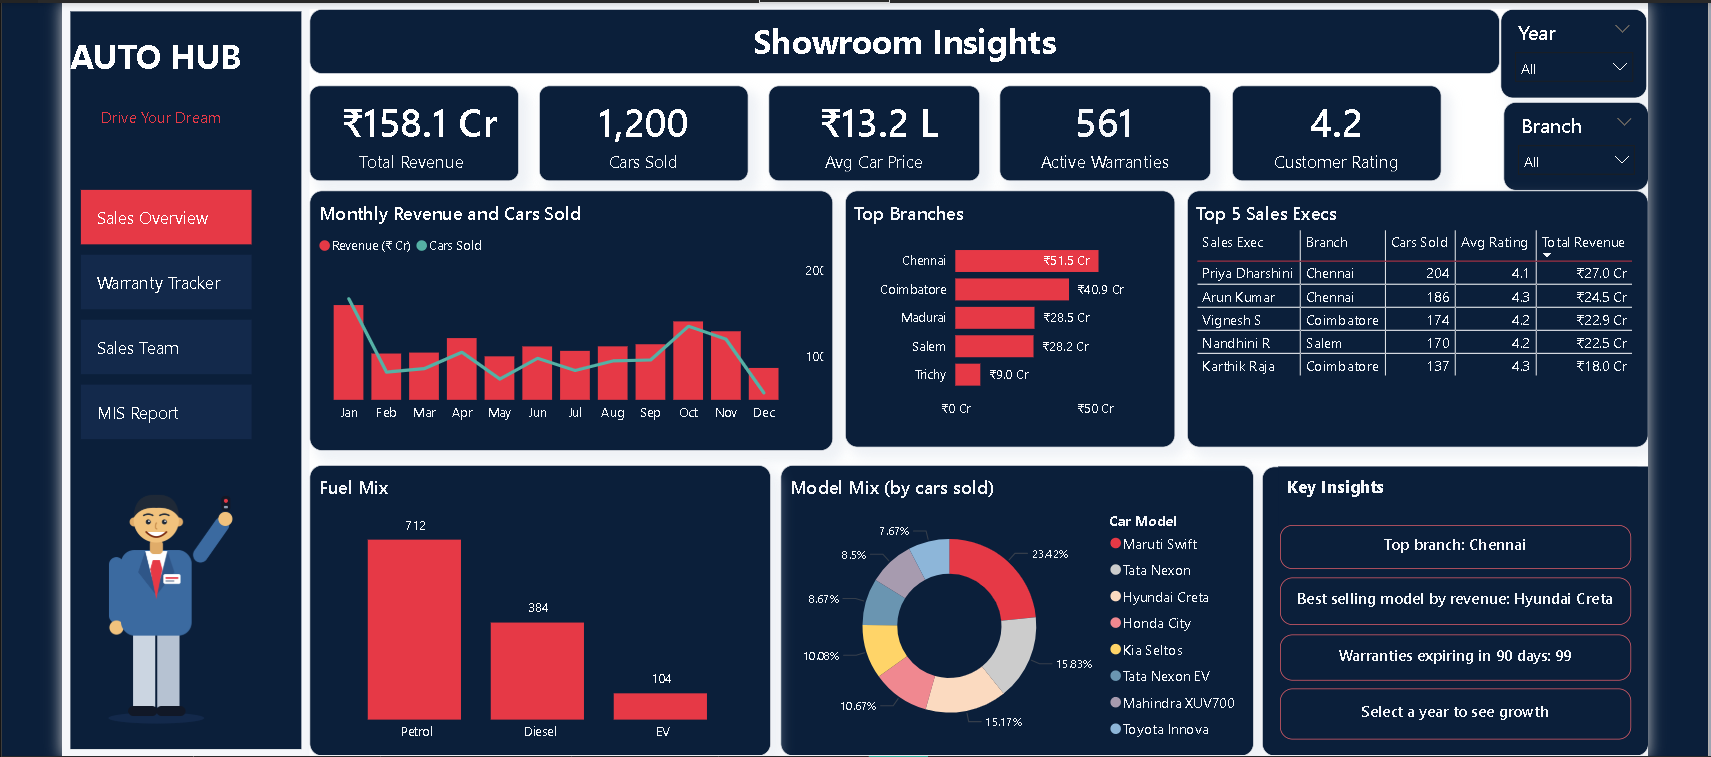

What the dashboard file says about the page in this screenshot:
{"tool":"powerbi","page":{"name":"Sales Overview","canvas":[1515,720],"ordinal":0},"visuals":[{"type":"group","id":"g1","title":"Group 1","box":[236.1,5.7,1278.9,714.1],"z":0},{"type":"card","fields":{"Values":["Sales.Revenue Cr Num"]},"box":[236.4,78.9,200.1,91.1],"z":0,"group":"g1"},{"type":"shape","box":[0,0,236.6,720.5],"z":1000},{"type":"card","fields":{"Values":["Sales.Cars Sold"]},"box":[455.4,78.9,200.1,91.1],"z":1000,"group":"g1"},{"type":"textbox","box":[0,20.7,189.4,69.5],"z":2000},{"type":"card","fields":{"Values":["Sales.Avg Price L"]},"box":[674.4,78.9,201.7,91.1],"z":2000,"group":"g1"},{"type":"card","fields":{"Values":["Sales.Active Warranties"]},"box":[895.1,78.9,201.7,91.1],"z":3000,"group":"g1"},{"type":"textbox","box":[0,90.2,189.4,47.3],"z":3000},{"type":"card","fields":{"Values":["Sales.Avg Rating"]},"box":[1116.3,78.9,200.1,91.1],"z":4000,"group":"g1"},{"type":"pageNavigator","box":[10.4,170.1,179,257.4],"z":4000},{"type":"slicer","fields":{"Values":["Calendar.Year"]},"box":[1373.2,5.7,140,85],"z":5000,"group":"g1"},{"type":"image","box":[10.4,427.6,179,276.7],"z":5000},{"type":"slicer","fields":{"Values":["Sales.Branch"]},"box":[1376.1,94.9,138.9,84.5],"z":6000,"group":"g1"},{"type":"lineClusteredColumnComboChart","title":"Monthly Revenue and Cars Sold","fields":{"Category":["Calendar.Month"],"Y2":["Sales.Cars Sold"],"Y":["Sales.Revenue Cr Num"]},"box":[236.1,179.2,500.1,248.6],"z":7000,"group":"g1"},{"type":"clusteredBarChart","title":"Top Branches","fields":{"Category":["Sales.Branch"],"Y":["Sales.Revenue Cr Num"]},"box":[748.1,179.2,315.5,245.6],"z":8000,"group":"g1"},{"type":"donutChart","title":"Model Mix (by cars sold)","fields":{"Category":["Sales.Car Model"],"Y":["Sales.Cars Sold"]},"box":[685.5,441.6,452.2,278.1],"z":9000,"group":"g1"},{"type":"clusteredColumnChart","title":"Fuel Mix","fields":{"Category":["Sales.Fuel"],"Y":["CountNonNull(Sales.Car Model)"]},"box":[236.4,441.6,440.8,278.1],"z":10000,"group":"g1"},{"type":"tableEx","title":"Top 5 Sales Execs","fields":{"Values":["Employees.Sales Exec","Employees.Branch","Sales.Cars Sold","Sales.Avg Rating","Sales.Revenue Cr Num"]},"box":[1074.2,179.2,440.8,245.6],"z":11000,"group":"g1"},{"type":"shape","box":[1145.9,442.2,369.1,276.8],"z":12000,"group":"g1"},{"type":"textbox","box":[1160.8,442.2,353.1,56.8],"z":13000,"group":"g1"},{"type":"card","fields":{"Values":["Sales.Insight 1"]},"box":[1163.5,498.5,335.1,42.3],"z":14000,"group":"g1"},{"type":"card","fields":{"Values":["Sales.Insight 2"]},"box":[1163.5,549,335.1,45.5],"z":15000,"group":"g1"},{"type":"card","fields":{"Values":["Sales.Insight 3"]},"box":[1163.5,602.6,335.1,43.9],"z":16000,"group":"g1"},{"type":"card","fields":{"Values":["Sales.Insight 4"]},"box":[1163.5,654.7,335.1,48.8],"z":17000,"group":"g1"},{"type":"textbox","box":[236.4,5.7,1137,61.8],"z":18000,"group":"g1"}]}

Visuals, with their boxes on the page's 1515x720 design canvas (x1, y1, x2, y2). These are canvas units, not pixel positions in the 1711x757 screenshot, which may show the page scaled, cropped or inside an application window:
"Group 1" group: left=236, top=6, right=1515, bottom=720
card - Sales.Revenue Cr Num: left=236, top=79, right=436, bottom=170
shape: left=0, top=0, right=237, bottom=720
card - Sales.Cars Sold: left=455, top=79, right=656, bottom=170
textbox: left=0, top=21, right=189, bottom=90
card - Sales.Avg Price L: left=674, top=79, right=876, bottom=170
card - Sales.Active Warranties: left=895, top=79, right=1097, bottom=170
textbox: left=0, top=90, right=189, bottom=138
card - Sales.Avg Rating: left=1116, top=79, right=1316, bottom=170
pageNavigator: left=10, top=170, right=189, bottom=428
slicer - Calendar.Year: left=1373, top=6, right=1513, bottom=91
image: left=10, top=428, right=189, bottom=704
slicer - Sales.Branch: left=1376, top=95, right=1515, bottom=179
"Monthly Revenue and Cars Sold" lineClusteredColumnComboChart: left=236, top=179, right=736, bottom=428
"Top Branches" clusteredBarChart: left=748, top=179, right=1064, bottom=425
"Model Mix (by cars sold)" donutChart: left=686, top=442, right=1138, bottom=720
"Fuel Mix" clusteredColumnChart: left=236, top=442, right=677, bottom=720
"Top 5 Sales Execs" tableEx: left=1074, top=179, right=1515, bottom=425
shape: left=1146, top=442, right=1515, bottom=719
textbox: left=1161, top=442, right=1514, bottom=499
card - Sales.Insight 1: left=1164, top=498, right=1499, bottom=541
card - Sales.Insight 2: left=1164, top=549, right=1499, bottom=594
card - Sales.Insight 3: left=1164, top=603, right=1499, bottom=646
card - Sales.Insight 4: left=1164, top=655, right=1499, bottom=704
textbox: left=236, top=6, right=1373, bottom=68
